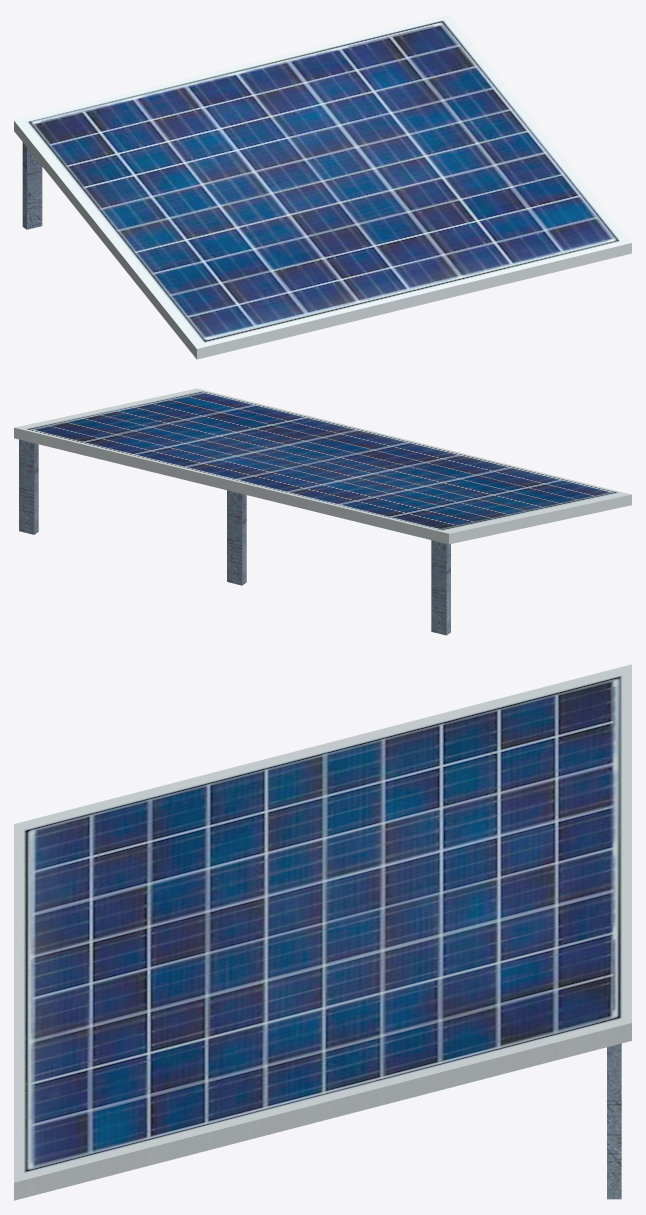
The model's file is solar_panel.glb.
3 renders of one model, top to bottom at view 1: azimuth 30°, elevation 25°; view 2: azimuth 150°, elevation 25°; view 3: azimuth 270°, elevation 25°, orthographic. The views are drawn at different scales.
Visible parts, largest first — view 1: Plane001; view 2: Plane001; view 3: Plane001.
Boxes of the visible parts, x1=… form: Plane001: x1=14, y1=14, x2=631, y2=359; Plane001: x1=14, y1=388, x2=631, y2=635; Plane001: x1=14, y1=664, x2=631, y2=1200.
Size of the model in its own units: 1.79 by 0.4145 by 1.31.
Materials: 1 (1 with a texture image).
